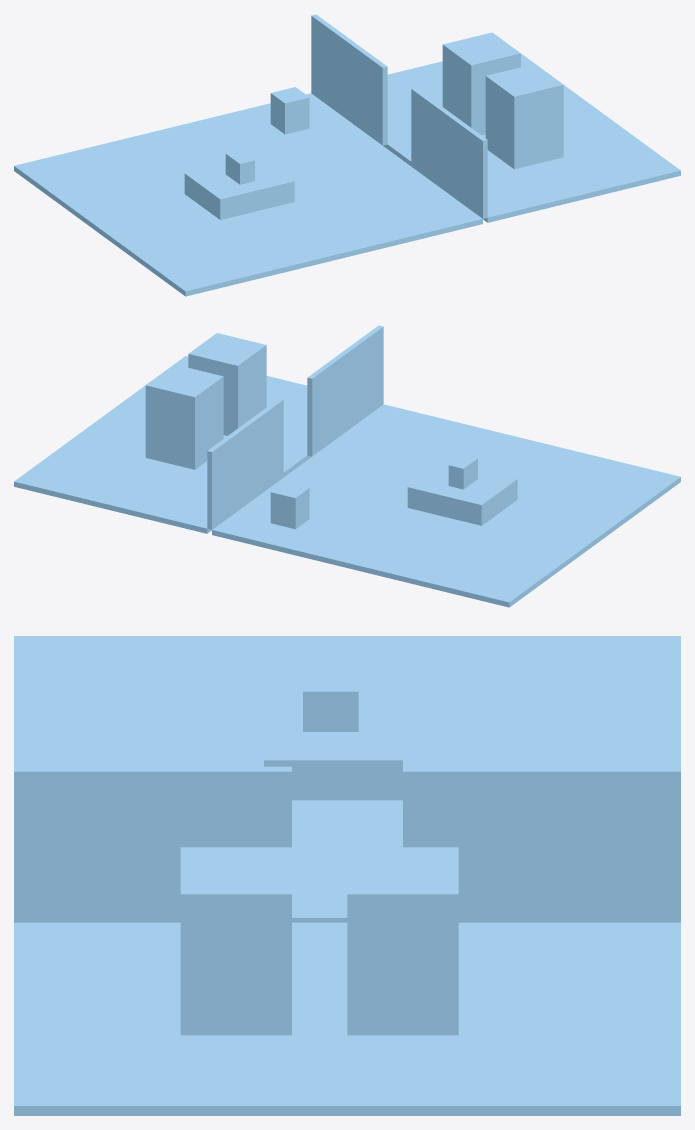
Rendered from investigation_scene.glb.
3 views of the same model, one above another, from view 1: azimuth 30°, elevation 25°; view 2: azimuth 150°, elevation 25°; view 3: azimuth 270°, elevation 25° (orthographic). The views are drawn at different scales.
Visible parts, largest first — view 1: InvestigationEnvironment; view 2: InvestigationEnvironment; view 3: InvestigationEnvironment.
Part boxes in pixels (left/top/right/bottom): InvestigationEnvironment: left=14, top=14, right=680, bottom=296; InvestigationEnvironment: left=14, top=325, right=680, bottom=607; InvestigationEnvironment: left=14, top=636, right=680, bottom=1115.
Size of the model in its own units: 20 by 3.2 by 12.
